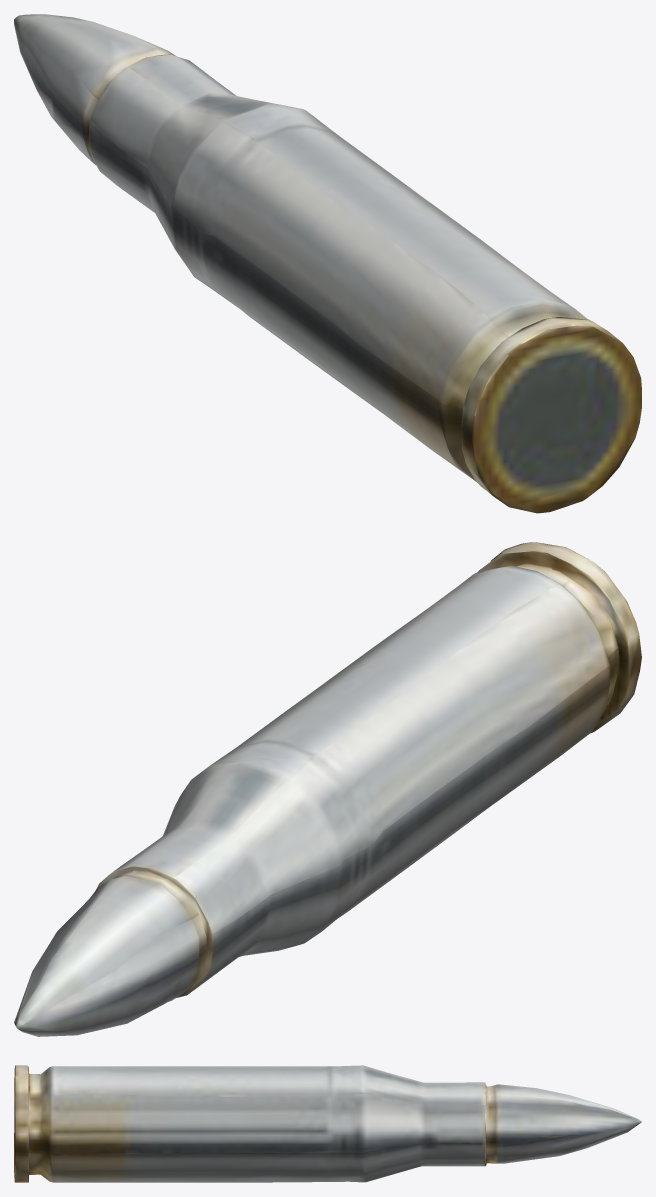
3 renders of one model, top to bottom at view 1: azimuth 30°, elevation 25°; view 2: azimuth 150°, elevation 25°; view 3: azimuth 270°, elevation 25°, orthographic. The views are drawn at different scales.
Size of the model in its own units: 0.1824 by 0.1885 by 1.
1 material, 1 textured.
